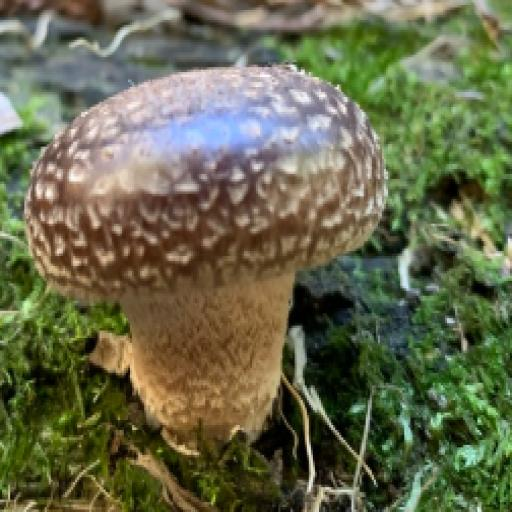Shiitake Mushroom: (0, 0, 465, 469)
